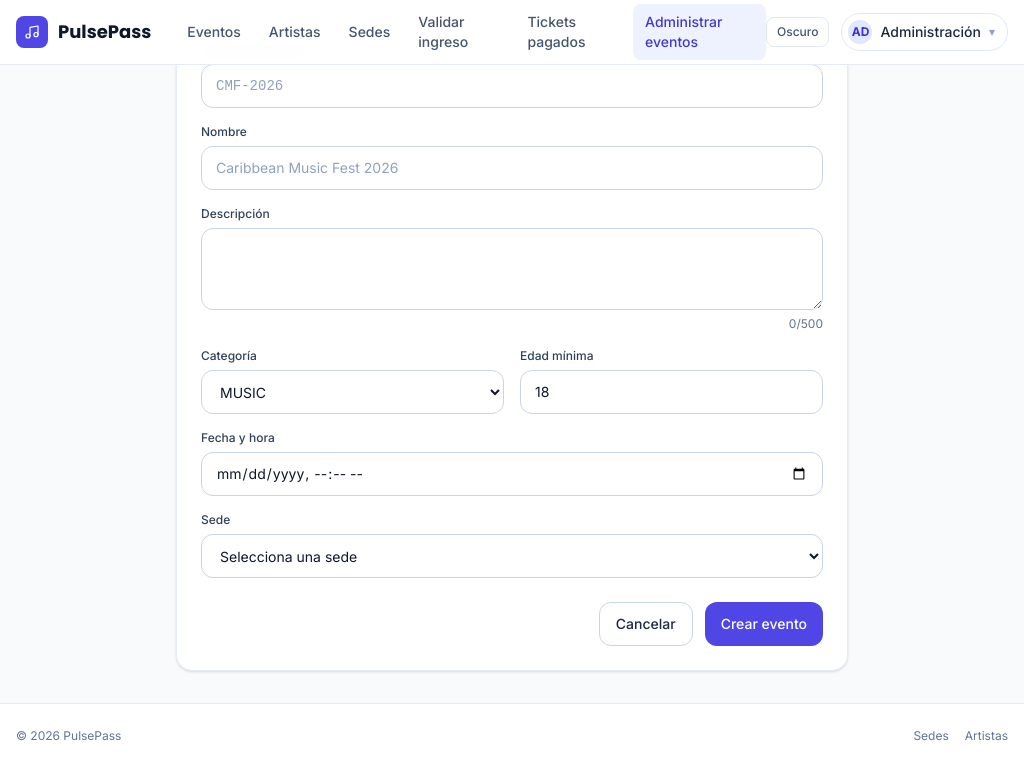
it: 21.5 STAFF y ADMIN (TEST-FE-STF-* y TEST-FE-ADM-*) › TEST-FE-ADM-001: crear evento con campos vacíos muestra errores y hace 0 peticiones
(page scrolled)
Click the button "Crear evento" at (764, 624), box [705,602,823,646]
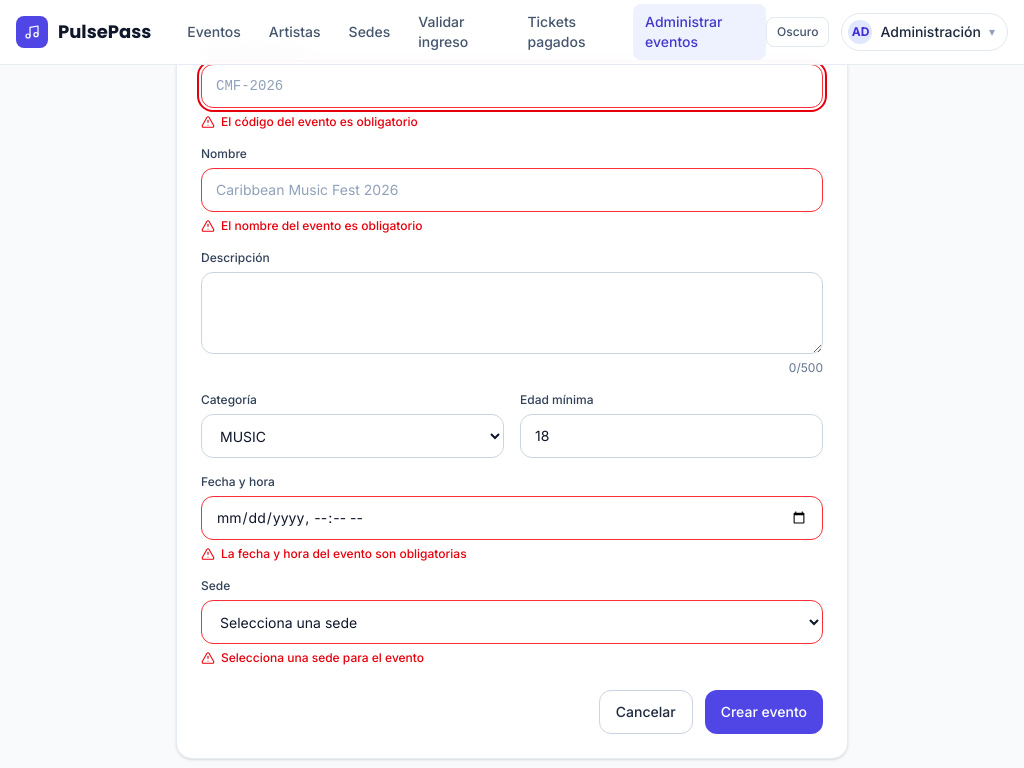
Result: the text "El código del evento es obligatorio" is shown at [221,114,418,130]
Result: the text "El nombre del evento es obligatorio" is shown at [221,218,422,234]
